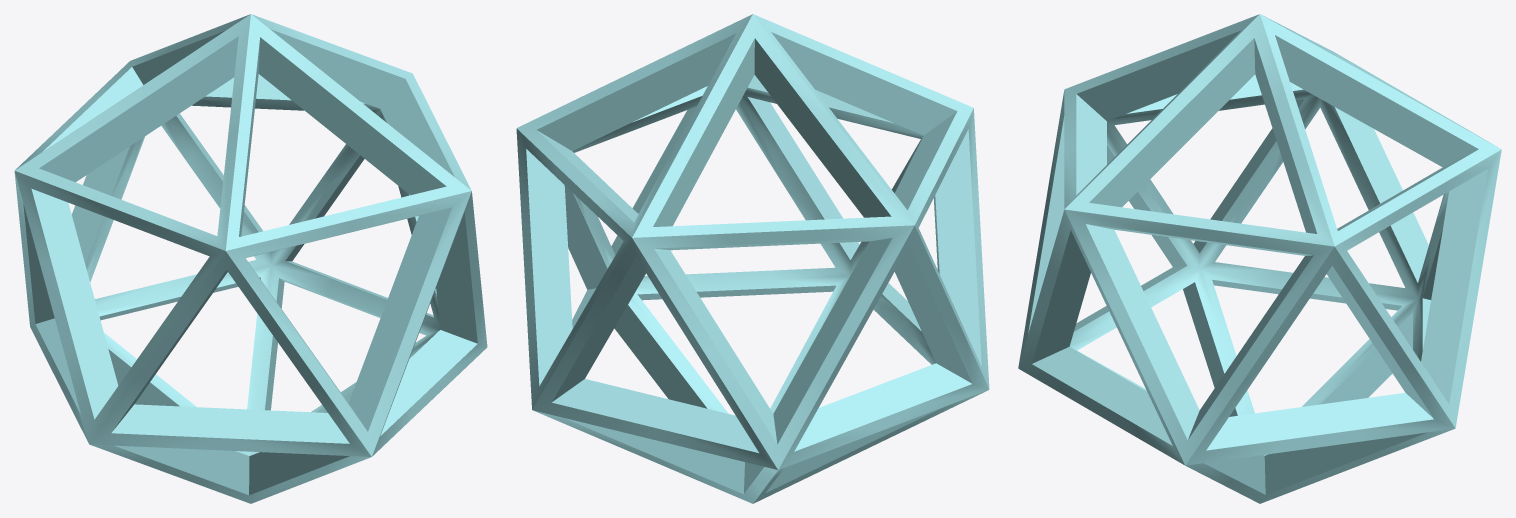
Rendered from Icosahedron.gltf.
3 views of the same model, side by side, from view 1: azimuth 30°, elevation 25°; view 2: azimuth 150°, elevation 25°; view 3: azimuth 270°, elevation 25° (orthographic).
Size of the model in its own units: 59.55 by 70 by 62.61.
